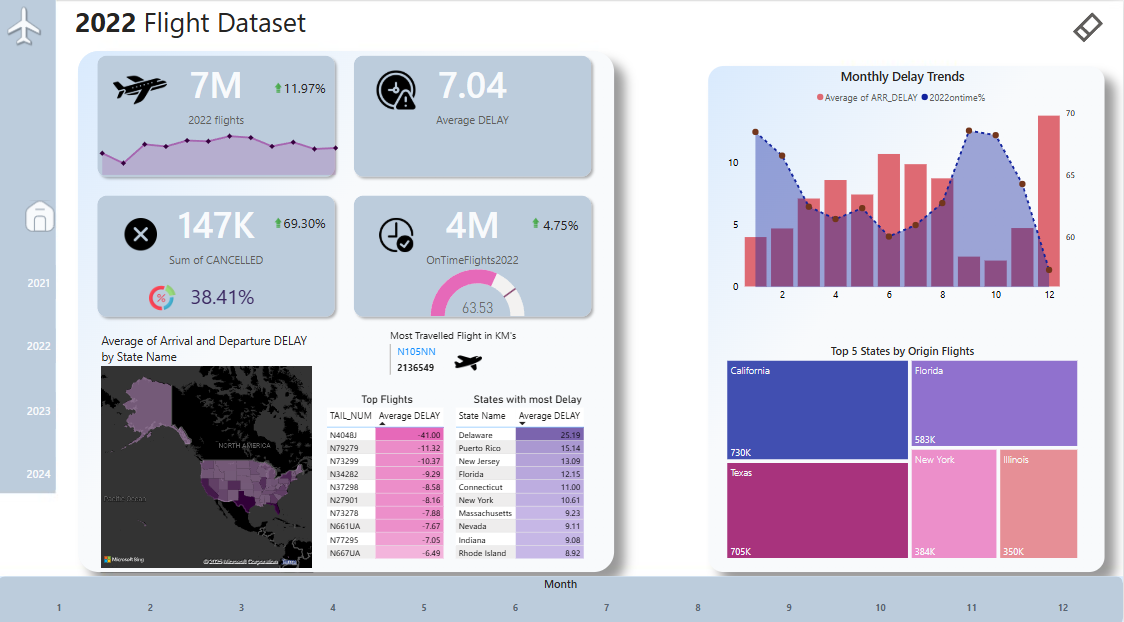

Layout of this report page (visuals, bound fields, positions):
{"tool":"powerbi","page":{"name":"2022","canvas":[1800,1000],"ordinal":2},"visuals":[{"type":"actionButton","box":[0,0,92,784],"z":0,"group":"g2"},{"type":"textbox","box":[117.5,0,607.5,85],"z":0},{"type":"group","id":"g1","title":"Group 1","box":[38,424,54.1,359.2],"z":0,"group":"g3"},{"type":"actionButton","box":[38,424,54.1,54.5],"z":0,"group":"g1"},{"type":"actionButton","box":[0,922,1800,78],"z":0,"group":"g4"},{"type":"actionButton","box":[0,0,92.5,85],"z":1000,"group":"g2"},{"type":"cardVisual","fields":{"Data":["2022.2022 flights","Sum(2022.CANCELLED)","Avg(2022.ARR_DELAY)","2022.OnTimeFlights2022"]},"box":[142.5,72.5,825,452.5],"z":1000},{"type":"actionButton","box":[41.8,316.1,50.3,60],"z":1000,"group":"g3"},{"type":"actionButton","box":[38,525.9,54.1,54.5],"z":1000,"group":"g1"},{"type":"slicer","title":"Month","fields":{"Values":["2021.MONTH"]},"box":[0,922,1800,78],"z":1000,"group":"g4"},{"type":"group","id":"g2","title":"Group 3","box":[0,0,92,784],"z":2000},{"type":"group","id":"g3","title":"Group 2","box":[38,316.1,54.1,467.1],"z":2000,"group":"g2"},{"type":"actionButton","box":[38,627.7,54.1,57.9],"z":2000,"group":"g1"},{"type":"actionButton","box":[38.3,733,53.8,50.2],"z":3000,"group":"g1"},{"type":"group","id":"g4","title":"Group 4","box":[0,922,1800,78],"z":3000},{"type":"treemap","title":"Top 5 States by Origin Flights","fields":{"Group":["2022.ORIGIN_STATE_NM"],"Values":["2022.2022 flights"]},"box":[1162,550,570,348],"z":4000},{"type":"lineClusteredColumnComboChart","title":"Monthly Delay Trends","fields":{"Category":["2022.MONTH"],"Y":["Avg(2022.ARR_DELAY)"],"Y2":["2022.2022ontime%"]},"box":[1162,108,570,384],"z":5000},{"type":"lineChart","fields":{"Y":["2022.2022 flights"],"Category":["2022.MONTH"]},"box":[117.5,200,437.5,85],"z":6000},{"type":"gauge","fields":{"Y":["2022.2022ontime%"]},"box":[670,425,195,85],"z":7000},{"type":"filledMap","title":"Average of Arrival and Departure DELAY by State Name","fields":{"Category":["2022.ORIGIN_STATE_NM"]},"box":[160,532.5,347.5,382.5],"z":8000},{"type":"tableEx","title":"Top Flights ","fields":{"Values":["2022.TAIL_NUM","Avg(2022.ARR_DELAY)"]},"box":[520,627.5,205,280],"z":9000},{"type":"card","fields":{"Values":["2022.2022percentcancel"]},"box":[197.5,437.5,322.5,72.5],"z":10000},{"type":"image","box":[187.5,450,150,52.5],"z":11000},{"type":"tableEx","title":"States with most Delay","fields":{"Values":["2022.DEST_STATE_NM","Avg(2022.ARR_DELAY)"]},"box":[725,627.5,242.5,280],"z":12000},{"type":"actionButton","box":[1687.5,16.2,112.5,56.2],"z":13000},{"type":"multiRowCard","title":"Most Travelled Flight in KM''s","fields":{"Values":["2022.TAIL_NUM","Sum(2022.DISTANCE)"]},"box":[622,524,258,102],"z":14000},{"type":"image","box":[712,554,80,54],"z":15000},{"type":"image","box":[152,96,150,96],"z":16000},{"type":"image","box":[188,344,80,62],"z":17000},{"type":"image","box":[552,108,170,72],"z":18000},{"type":"image","box":[562,340,150,72],"z":19000},{"type":"card","fields":{"Values":["2022.YOY"]},"box":[448,128,86,30],"z":20000},{"type":"image","box":[433,121,29,37],"z":21000},{"type":"card","fields":{"Values":["2022.YOY cancel"]},"box":[448,344,86,30],"z":22000},{"type":"image","box":[433,338,29,37],"z":23000},{"type":"card","fields":{"Values":["2022.YOY"]},"box":[857,345,86,30],"z":24000},{"type":"image","box":[846,338,29,37],"z":25000}]}

Visuals, with their boxes on the page's 1800x1000 design canvas (x1, y1, x2, y2). These are canvas units, not pixel positions in the 1124x622 screenshot, which may show the page scaled, cropped or inside an application window:
actionButton: (x1=0, y1=0, x2=92, y2=784)
textbox: (x1=118, y1=0, x2=725, y2=85)
"Group 1" group: (x1=38, y1=424, x2=92, y2=783)
actionButton: (x1=38, y1=424, x2=92, y2=478)
actionButton: (x1=0, y1=922, x2=1800, y2=1000)
actionButton: (x1=0, y1=0, x2=92, y2=85)
cardVisual - 2022.2022 flights x Sum(2022.CANCELLED): (x1=142, y1=72, x2=968, y2=525)
actionButton: (x1=42, y1=316, x2=92, y2=376)
actionButton: (x1=38, y1=526, x2=92, y2=580)
"Month" slicer: (x1=0, y1=922, x2=1800, y2=1000)
"Group 3" group: (x1=0, y1=0, x2=92, y2=784)
"Group 2" group: (x1=38, y1=316, x2=92, y2=783)
actionButton: (x1=38, y1=628, x2=92, y2=686)
actionButton: (x1=38, y1=733, x2=92, y2=783)
"Group 4" group: (x1=0, y1=922, x2=1800, y2=1000)
"Top 5 States by Origin Flights" treemap: (x1=1162, y1=550, x2=1732, y2=898)
"Monthly Delay Trends" lineClusteredColumnComboChart: (x1=1162, y1=108, x2=1732, y2=492)
lineChart - 2022.2022 flights x 2022.MONTH: (x1=118, y1=200, x2=555, y2=285)
gauge - 2022.2022ontime%: (x1=670, y1=425, x2=865, y2=510)
"Average of Arrival and Departure DELAY by State Name" filledMap: (x1=160, y1=532, x2=508, y2=915)
"Top Flights " tableEx: (x1=520, y1=628, x2=725, y2=908)
card - 2022.2022percentcancel: (x1=198, y1=438, x2=520, y2=510)
image: (x1=188, y1=450, x2=338, y2=502)
"States with most Delay" tableEx: (x1=725, y1=628, x2=968, y2=908)
actionButton: (x1=1688, y1=16, x2=1800, y2=72)
"Most Travelled Flight in KM''s" multiRowCard: (x1=622, y1=524, x2=880, y2=626)
image: (x1=712, y1=554, x2=792, y2=608)
image: (x1=152, y1=96, x2=302, y2=192)
image: (x1=188, y1=344, x2=268, y2=406)
image: (x1=552, y1=108, x2=722, y2=180)
image: (x1=562, y1=340, x2=712, y2=412)
card - 2022.YOY: (x1=448, y1=128, x2=534, y2=158)
image: (x1=433, y1=121, x2=462, y2=158)
card - 2022.YOY cancel: (x1=448, y1=344, x2=534, y2=374)
image: (x1=433, y1=338, x2=462, y2=375)
card - 2022.YOY: (x1=857, y1=345, x2=943, y2=375)
image: (x1=846, y1=338, x2=875, y2=375)
